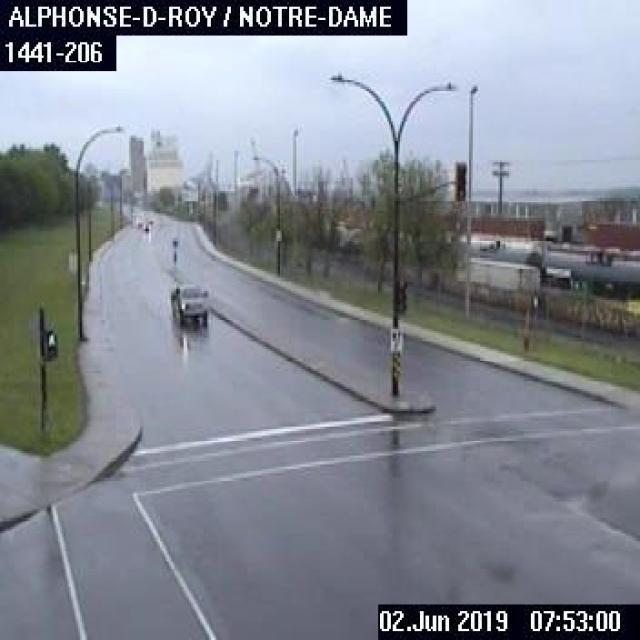vehicle: (171, 280, 207, 322), (138, 219, 150, 233)
